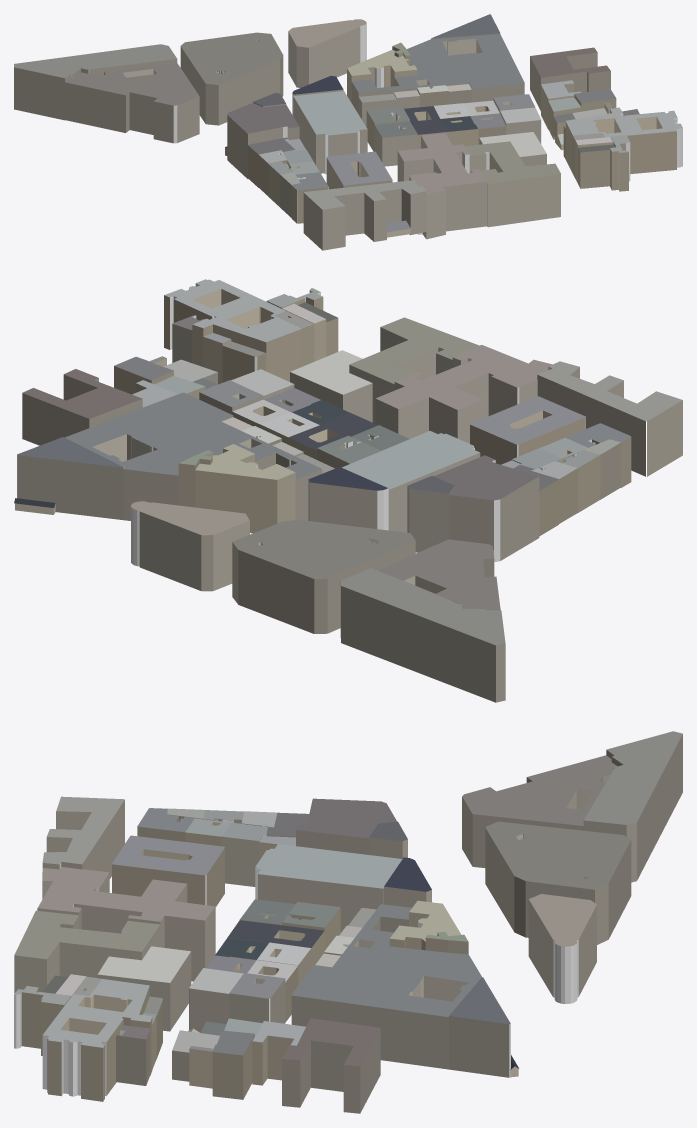
3 renders of one model, top to bottom at view 1: azimuth 30°, elevation 25°; view 2: azimuth 150°, elevation 25°; view 3: azimuth 270°, elevation 25°, orthographic. The views are drawn at different scales.
Visible parts, largest first — view 1: tuile; view 2: tuile; view 3: tuile.
Boxes of the visible parts, bbox=[...] form: tuile: bbox=[14, 14, 682, 250]; tuile: bbox=[14, 279, 682, 702]; tuile: bbox=[14, 731, 682, 1113].
Bounding box in the file's own units: 311 × 35.58 × 276.
